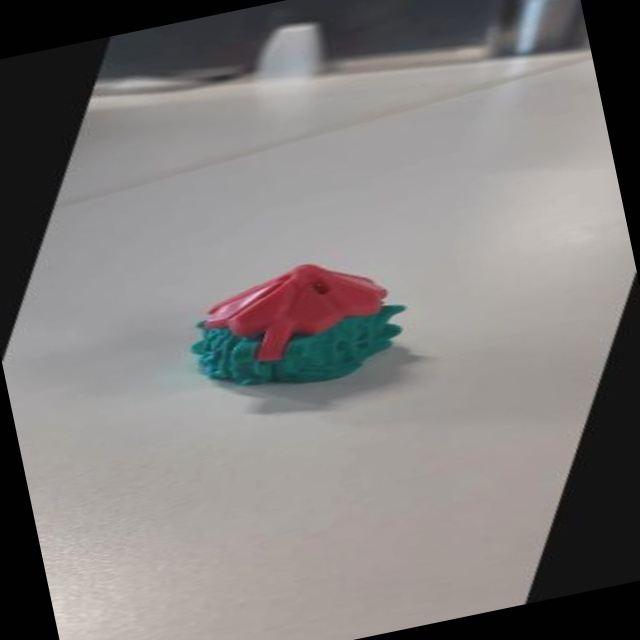House: (141, 217, 469, 425)
